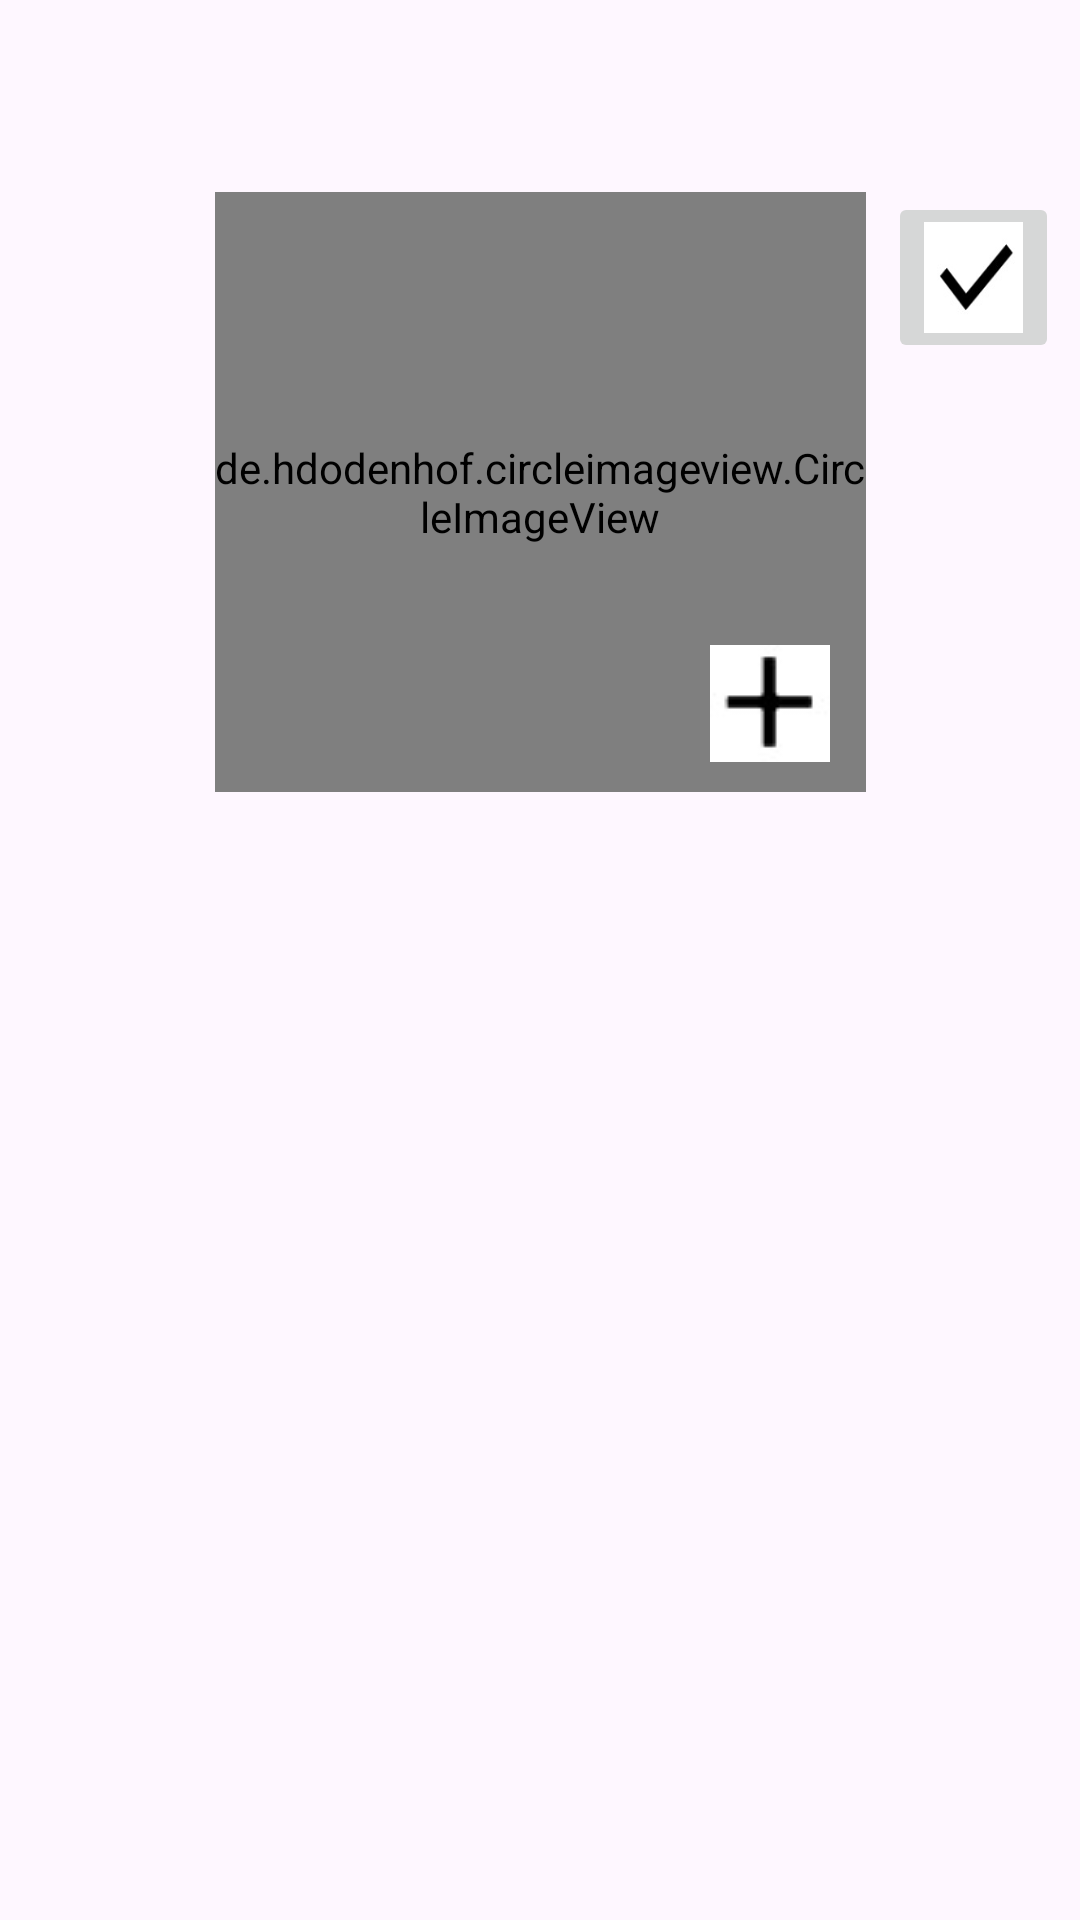

Icon bounding boxes for this 1080 × 1920 phone screenshot, format (x1, y1, x2, y2):
plus: (710, 645, 830, 762)
save: (900, 210, 1047, 345)
